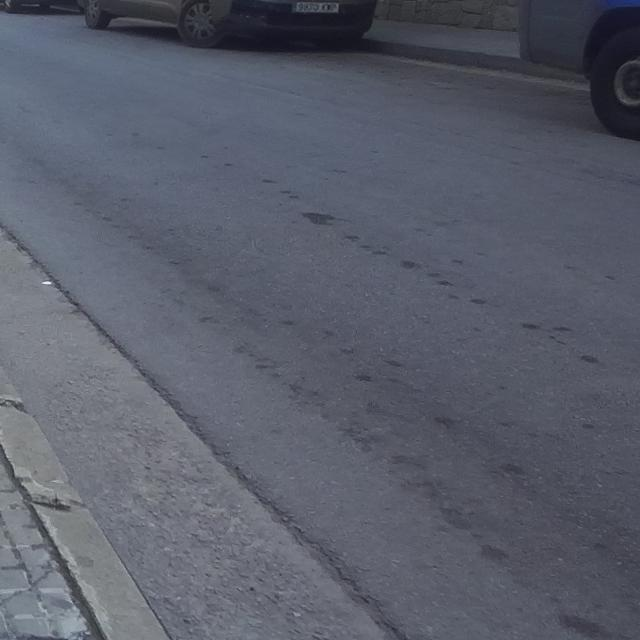calcada_quebrada: (0, 561, 64, 620)
